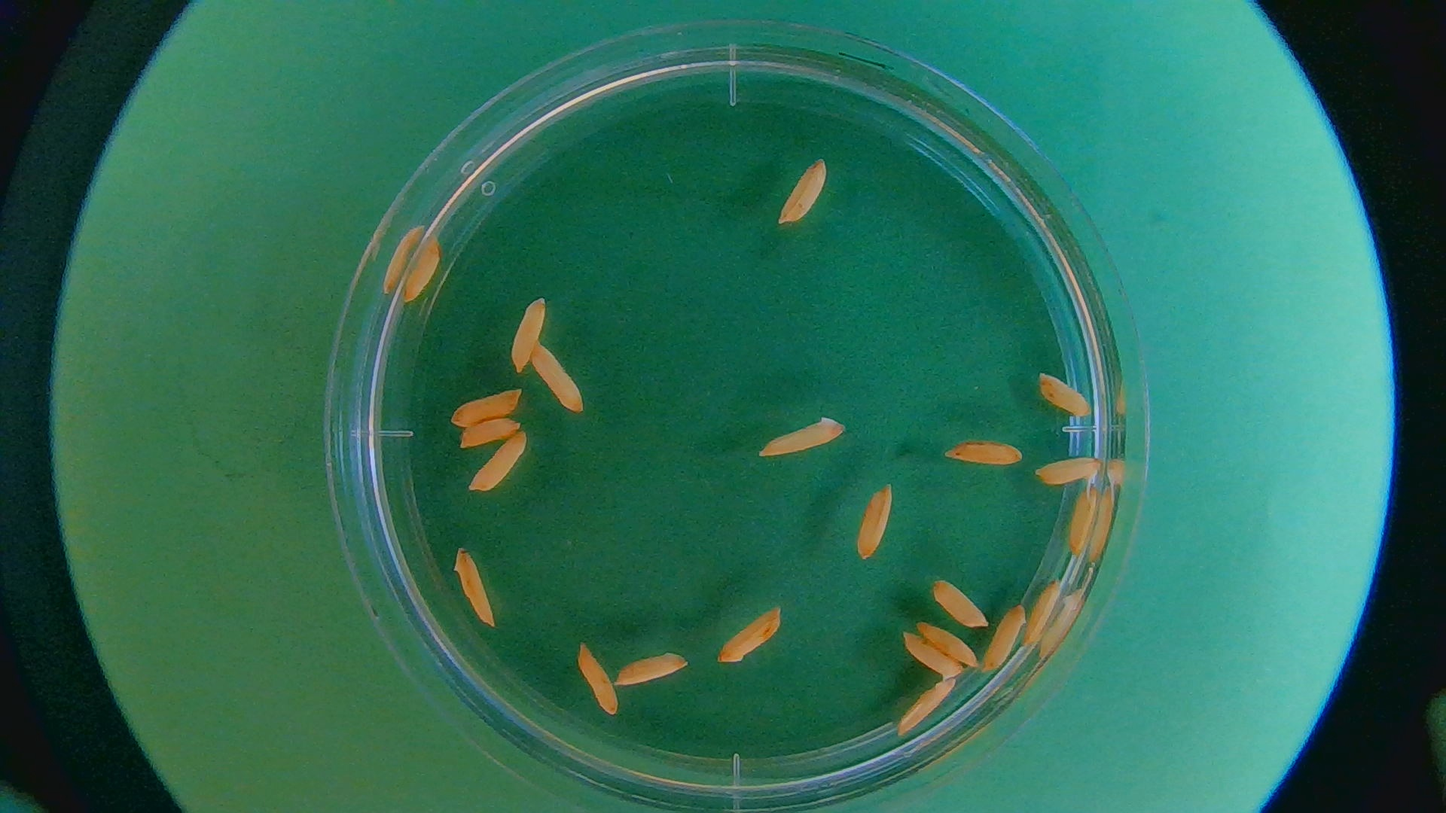no: (450, 543, 498, 630), (530, 341, 585, 416), (471, 429, 530, 492), (757, 416, 849, 456), (776, 157, 828, 225), (719, 607, 783, 662), (896, 680, 960, 735), (576, 640, 621, 712), (1023, 576, 1066, 650), (901, 634, 969, 680), (930, 574, 991, 625), (398, 233, 442, 303), (985, 603, 1029, 673), (856, 481, 892, 563), (509, 297, 547, 373), (1038, 371, 1098, 419), (1036, 453, 1108, 492), (612, 650, 690, 685), (453, 391, 524, 425), (919, 624, 978, 664), (1063, 485, 1099, 550), (945, 443, 1023, 469), (452, 420, 520, 449)
